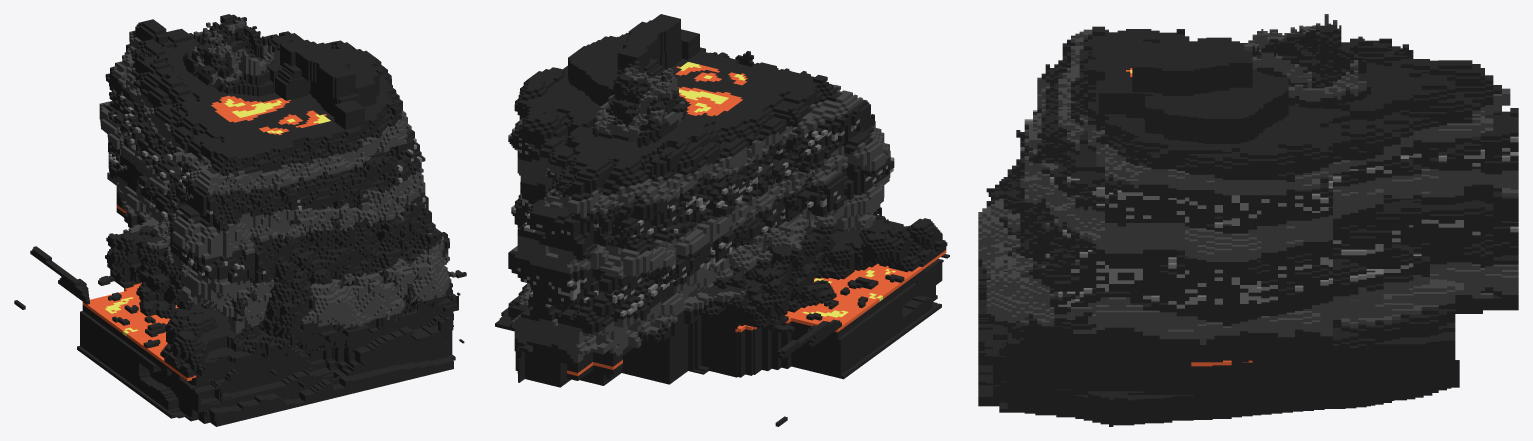
The model's file is Mainpart_lava_vox-3.obj.
3 renders of one model, left to right at view 1: azimuth 30°, elevation 25°; view 2: azimuth 150°, elevation 25°; view 3: azimuth 270°, elevation 25°, orthographic. The views are drawn at different scales.
Size of the model in its own units: 20.8 by 17.3 by 25.6.
Materials: 1 (1 with a texture image).
